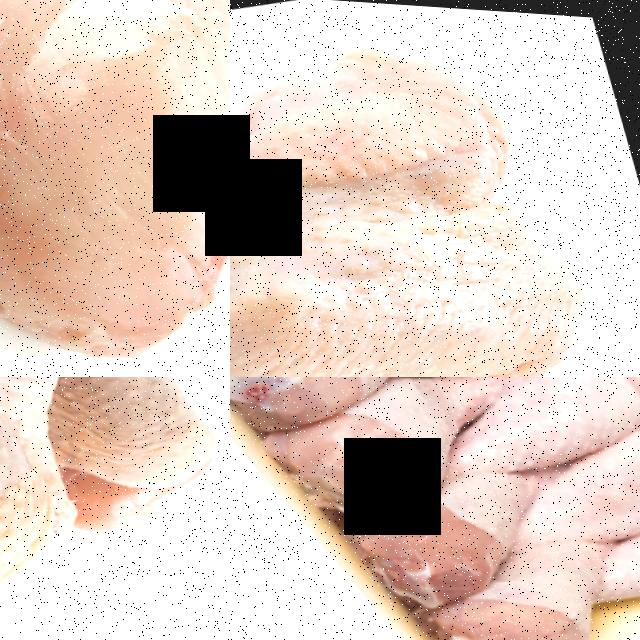chicken breast: (0, 0, 230, 377)
chicken thigh: (257, 377, 562, 531), (431, 377, 640, 488), (0, 377, 68, 640), (230, 377, 482, 441)
chicken wing: (230, 0, 640, 377)
